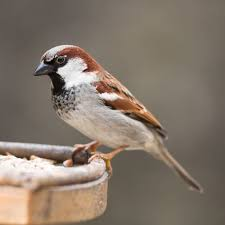hsparrow: (29, 41, 206, 196)
